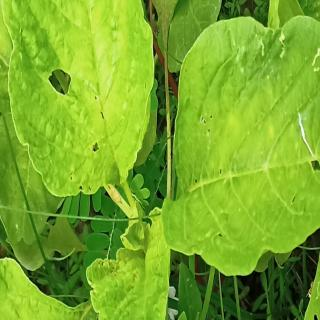virus_keriting: (2, 0, 148, 188), (210, 9, 320, 191), (85, 229, 172, 320)
